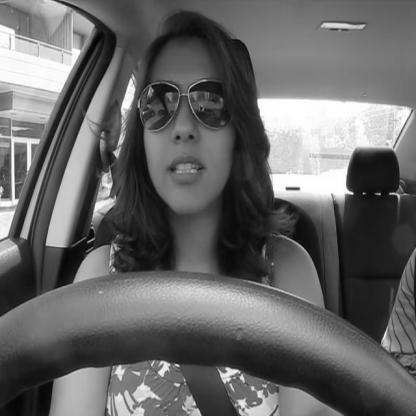seatbelt: (92, 5, 274, 416)
